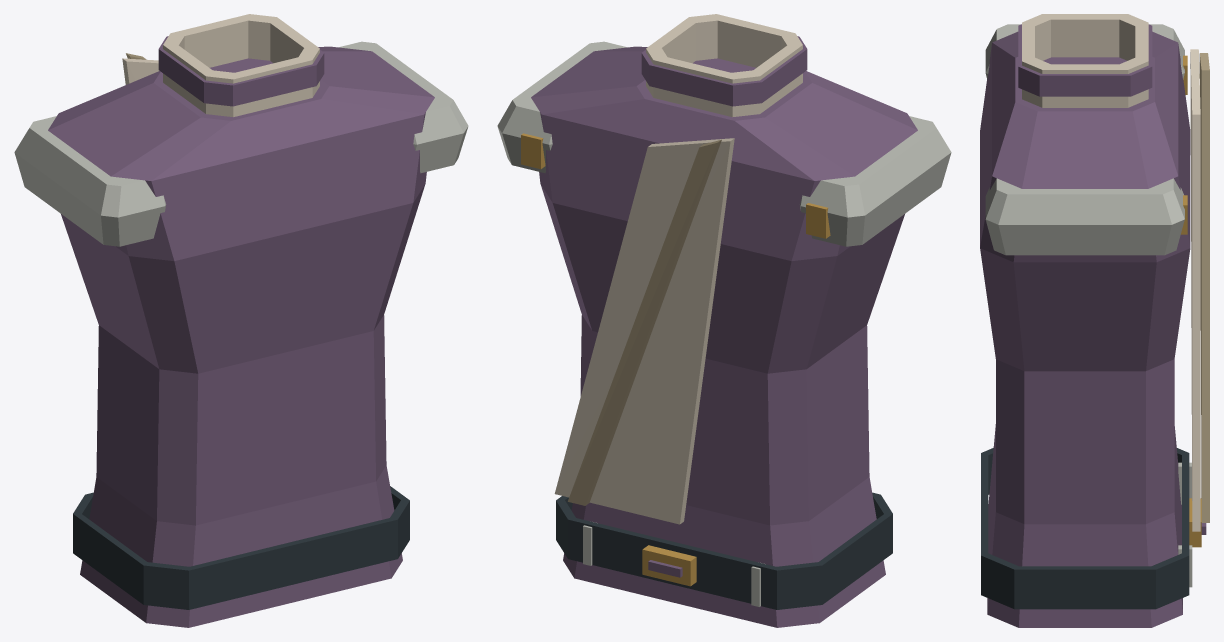
3 renders of one model, left to right at view 1: azimuth 30°, elevation 25°; view 2: azimuth 150°, elevation 25°; view 3: azimuth 270°, elevation 25°, orthographic.
Visible parts, largest first — view 1: 现有程序躯干 · 同用途配色; view 2: 现有程序躯干 · 同用途配色; view 3: 现有程序躯干 · 同用途配色.
Part boxes in pixels (box(x1,y1,x2,y2)): 现有程序躯干 · 同用途配色: box(14, 14, 468, 627); 现有程序躯干 · 同用途配色: box(497, 14, 951, 627); 现有程序躯干 · 同用途配色: box(980, 14, 1209, 627).
Size of the model in its own units: 0.458 by 0.62 by 0.247.
Materials: 6 (6 with a texture image).
